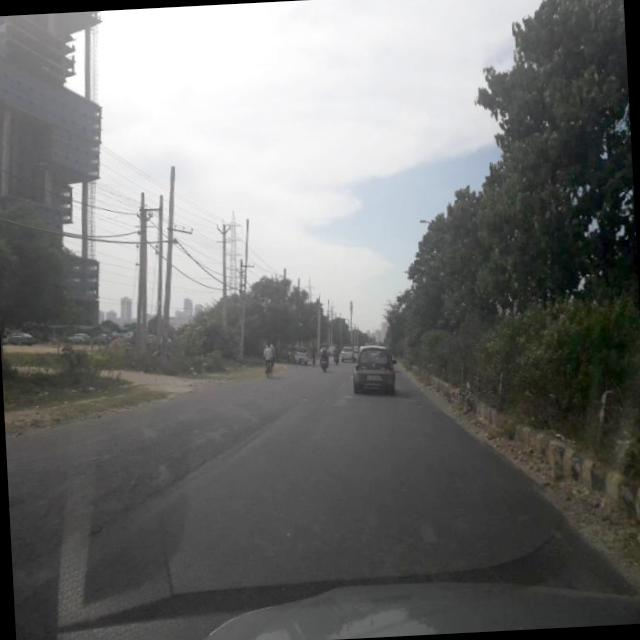crack: (9, 397, 528, 617)
